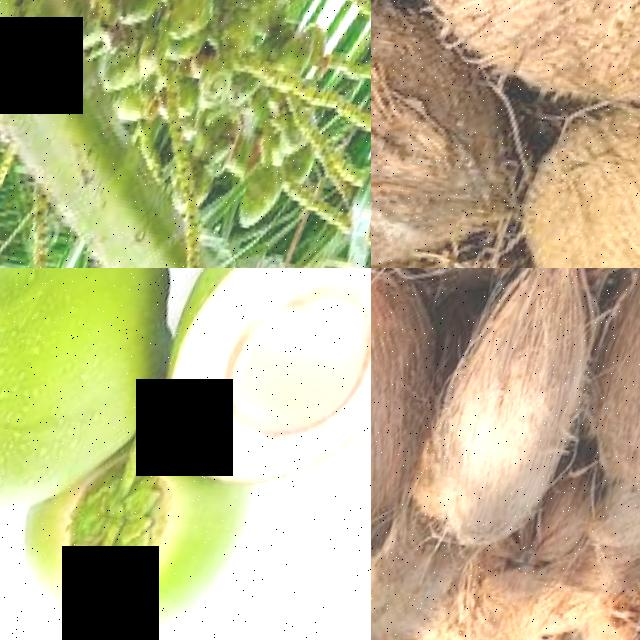coconut: (402, 268, 639, 583), (141, 268, 371, 519), (371, 0, 569, 268), (0, 268, 182, 556), (16, 445, 273, 640), (500, 65, 640, 268), (565, 268, 640, 522)
